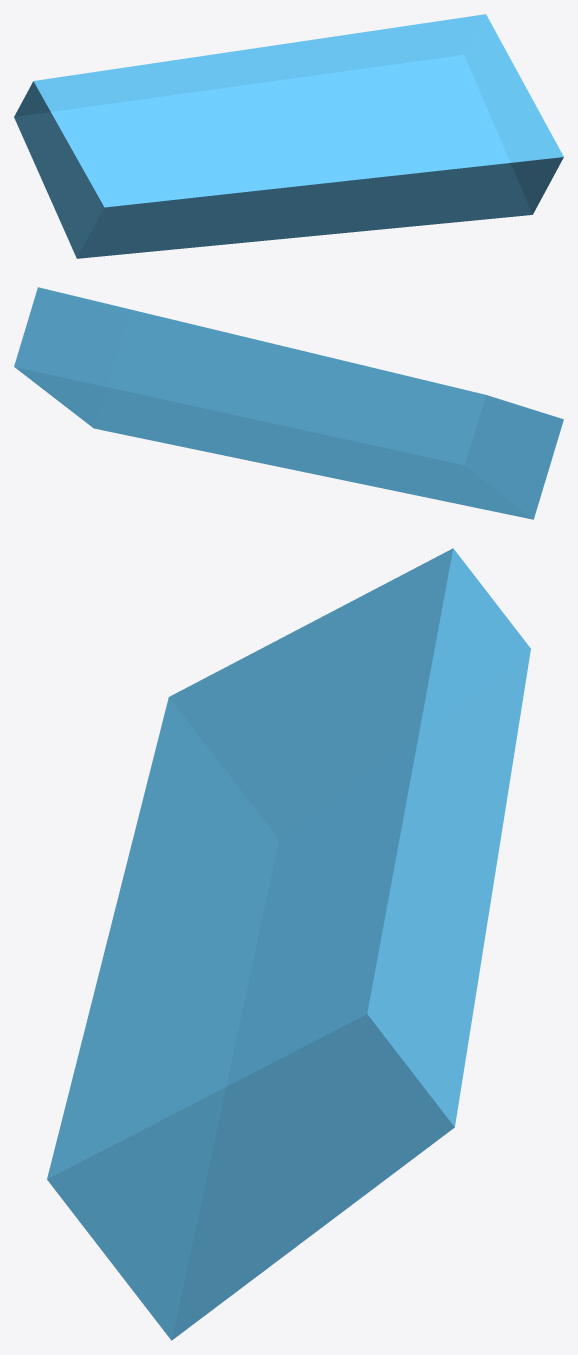
The model's file is Event_420107950_HErechit_76.fbx.
3 renders of one model, top to bottom at view 1: azimuth 30°, elevation 25°; view 2: azimuth 150°, elevation 25°; view 3: azimuth 270°, elevation 25°, orthographic. The views are drawn at different scales.
Visible parts, largest first — view 1: Model; view 2: Model; view 3: Model.
Part boxes in pixels (<box>): Model: <box>14,14,563,258</box>; Model: <box>14,287,563,519</box>; Model: <box>47,548,530,1340</box>.
Bounding box in the file's own units: 1.42 × 0.587 × 0.6887.
